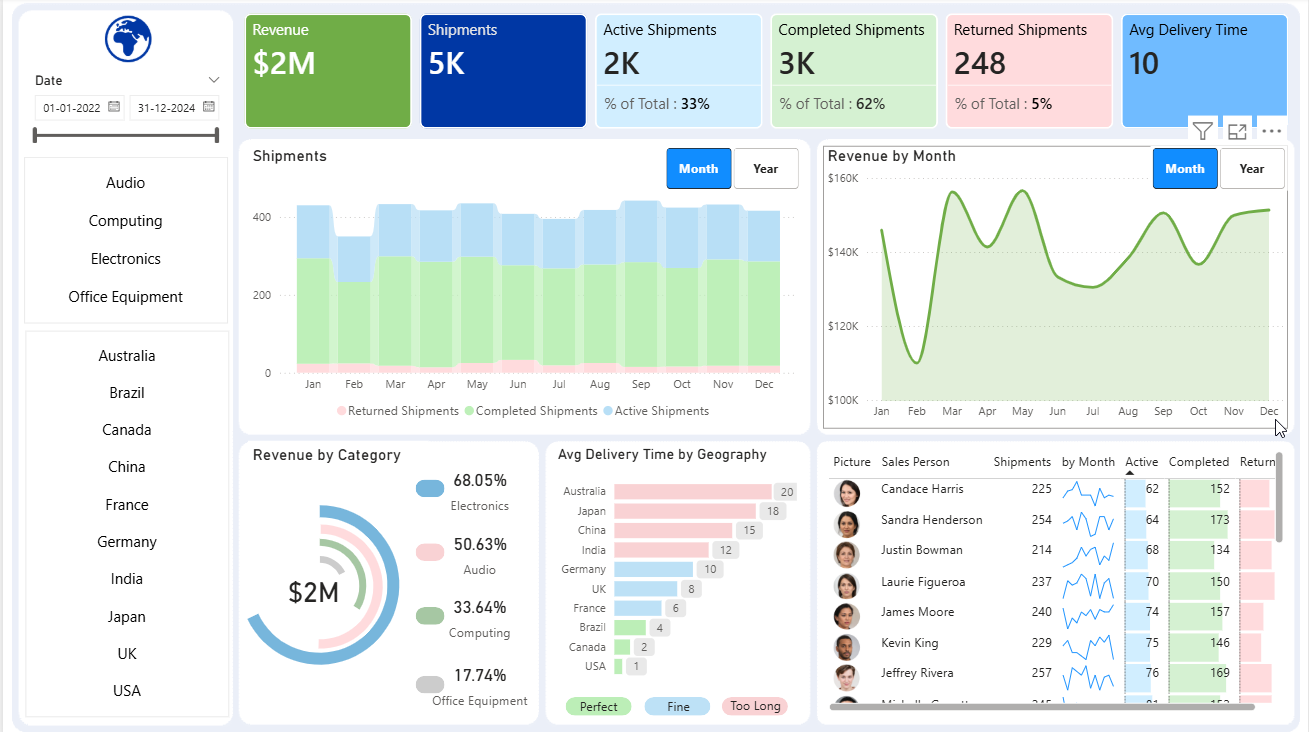

This screenshot's page, from the dashboard's own definition file:
{"tool":"powerbi","page":{"name":"Page 1","canvas":[1400,800],"ordinal":0},"visuals":[{"type":"cardVisual","fields":{"Data":["All Measures.Revenue","All Measures.Total Shipments","All Measures.Active Shipments","All Measures.Completed Shipments","All Measures.Returned Shipments","All Measures.Avg Delivery Time"]},"box":[254.7,13.4,1132.7,132.7],"z":0},{"type":"card","fields":{"Values":["All Measures.Target %"]},"box":[419.3,492.9,183.9,68.1],"z":0,"group":"g1"},{"type":"columnChart","title":"Shipments","fields":{"Category":["Calender.Month"],"Y":["All Measures.Returned Shipments","All Measures.Completed Shipments","All Measures.Active Shipments"]},"box":[262.7,159.5,593.8,303],"z":1000},{"type":"donutChart","fields":{"Y":["All Measures.Target %","All Measures.Target Diff"]},"box":[204.8,518.5,269.2,223.9],"z":1000,"group":"g2"},{"type":"card","fields":{"Values":["All Measures.Target %"]},"box":[419.3,561,183.9,68.1],"z":1000,"group":"g1"},{"type":"advancedSlicerVisual","fields":{"Values":["Parameter.Parameter"]},"box":[709.1,159.5,147.5,48.3],"z":2000},{"type":"card","fields":{"Values":["All Measures.Target %"]},"box":[419.3,629,183.9,68.1],"z":2000,"group":"g1"},{"type":"areaChart","fields":{"Category":["Calender.Month"],"Y":["All Measures.Revenue"]},"box":[879.4,159.5,498.7,303],"z":3000},{"type":"donutChart","fields":{"Y":["All Measures.Target %","All Measures.Target Diff"]},"box":[246.5,543.5,188.3,176.3],"z":3000,"group":"g2"},{"type":"card","fields":{"Values":["All Measures.Target %"]},"box":[419.3,702.6,183.9,68.1],"z":3000,"group":"g1"},{"type":"advancedSlicerVisual","fields":{"Values":["Parameter 2.Parameter"]},"box":[1230.6,159.5,147.5,48.3],"z":4000},{"type":"shape","box":[441.5,517.4,31.3,19.1],"z":4000,"group":"g1"},{"type":"donutChart","fields":{"Y":["All Measures.Target %","All Measures.Target Diff"]},"box":[271.8,556,135.2,150.1],"z":4000,"group":"g2"},{"type":"clusteredBarChart","fields":{"Category":["Country.Geography"],"Y":["All Measures.Avg Delivery Time"]},"box":[589.8,481.2,266.8,258.7],"z":5000},{"type":"shape","box":[441.5,585.5,31.3,19.1],"z":5000,"group":"g1"},{"type":"donutChart","fields":{"Y":["All Measures.Target %","All Measures.Target Diff"]},"box":[294.5,587.3,89.7,86.3],"z":5000,"group":"g2"},{"type":"shape","box":[441.5,653.6,31.3,19.1],"z":6000,"group":"g1"},{"type":"shape","box":[603.2,750.7,71,20.1],"z":6000},{"type":"shape","box":[441.5,727.1,31.3,19.1],"z":7000,"group":"g1"},{"type":"shape","box":[687.7,750.7,71,20.1],"z":7000},{"type":"shape","box":[770.8,750.7,71,20.1],"z":8000},{"type":"textbox","box":[768.2,745.8,78.4,28.8],"z":9000},{"type":"textbox","box":[608.6,746.7,60.3,29.5],"z":10000},{"type":"textbox","box":[694.4,746.7,60.3,29.5],"z":11000},{"type":"tableEx","fields":{"Values":["SalesPerson.Picture","SalesPerson.Sales Person","All Measures.Shipments","SparklineData(All Measures.Shipments_[Calender.Month])","All Measures.Active Shipments","All Measures.Completed Shipments","All Measures.Returned Shipments"]},"box":[879.4,482.6,498.7,288.2],"z":12000},{"type":"group","id":"g1","title":"Group 1","box":[419.3,492.9,184,278.5],"z":13000},{"type":"group","id":"g2","title":"Group 2","box":[204.8,518.5,268.9,224.1],"z":14000},{"type":"card","fields":{"Values":["All Measures.Revenue"]},"box":[294.5,611.3,76.8,49.6],"z":15000},{"type":"textbox","box":[262.5,475.3,193.6,35.2],"z":16000},{"type":"slicer","fields":{"Values":["Calender.Date"]},"box":[21.4,76.4,223.9,95.2],"z":17000},{"type":"advancedSlicerVisual","fields":{"Values":["Product.Category"]},"box":[22.8,171.6,218.5,178.3],"z":18000},{"type":"advancedSlicerVisual","fields":{"Values":["Country.Geography"]},"box":[24.1,357.9,218.5,414.2],"z":19000},{"type":"image","box":[97.9,13.4,72.4,63],"z":20000}]}

Visuals, with their boxes in screenshot pixels (x1, y1, x2, y2), scaled from the page's 1400x800 canvas onto the 1309x732 screenshot:
cardVisual - All Measures.Revenue x All Measures.Total Shipments: (x1=238, y1=12, x2=1297, y2=134)
card - All Measures.Target %: (x1=392, y1=451, x2=564, y2=513)
"Shipments" columnChart: (x1=246, y1=146, x2=801, y2=423)
donutChart - All Measures.Target % x All Measures.Target Diff: (x1=191, y1=474, x2=443, y2=679)
card - All Measures.Target %: (x1=392, y1=513, x2=564, y2=576)
advancedSlicerVisual - Parameter.Parameter: (x1=663, y1=146, x2=801, y2=190)
card - All Measures.Target %: (x1=392, y1=576, x2=564, y2=638)
areaChart - Calender.Month x All Measures.Revenue: (x1=822, y1=146, x2=1289, y2=423)
donutChart - All Measures.Target % x All Measures.Target Diff: (x1=230, y1=497, x2=407, y2=659)
card - All Measures.Target %: (x1=392, y1=643, x2=564, y2=705)
advancedSlicerVisual - Parameter 2.Parameter: (x1=1151, y1=146, x2=1289, y2=190)
shape: (x1=413, y1=473, x2=442, y2=491)
donutChart - All Measures.Target % x All Measures.Target Diff: (x1=254, y1=509, x2=381, y2=646)
clusteredBarChart - Country.Geography x All Measures.Avg Delivery Time: (x1=551, y1=440, x2=801, y2=677)
shape: (x1=413, y1=536, x2=442, y2=553)
donutChart - All Measures.Target % x All Measures.Target Diff: (x1=275, y1=537, x2=359, y2=616)
shape: (x1=413, y1=598, x2=442, y2=616)
shape: (x1=564, y1=687, x2=630, y2=705)
shape: (x1=413, y1=665, x2=442, y2=683)
shape: (x1=643, y1=687, x2=709, y2=705)
shape: (x1=721, y1=687, x2=787, y2=705)
textbox: (x1=718, y1=682, x2=792, y2=709)
textbox: (x1=569, y1=683, x2=625, y2=710)
textbox: (x1=649, y1=683, x2=706, y2=710)
tableEx - SalesPerson.Picture x SalesPerson.Sales Person: (x1=822, y1=442, x2=1289, y2=705)
"Group 1" group: (x1=392, y1=451, x2=564, y2=706)
"Group 2" group: (x1=191, y1=474, x2=443, y2=679)
card - All Measures.Revenue: (x1=275, y1=559, x2=347, y2=605)
textbox: (x1=245, y1=435, x2=426, y2=467)
slicer - Calender.Date: (x1=20, y1=70, x2=229, y2=157)
advancedSlicerVisual - Product.Category: (x1=21, y1=157, x2=226, y2=320)
advancedSlicerVisual - Country.Geography: (x1=23, y1=327, x2=227, y2=706)
image: (x1=92, y1=12, x2=159, y2=70)
